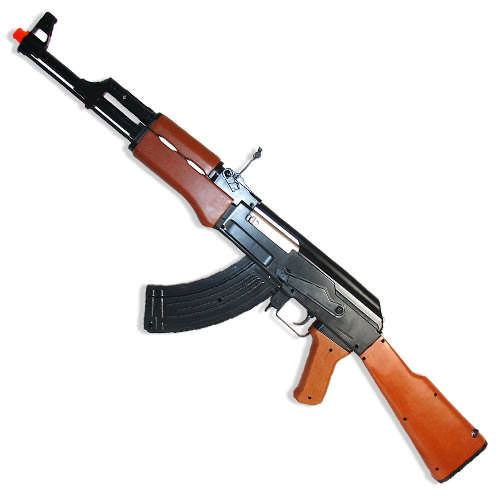rifle: (11, 12, 496, 485)
